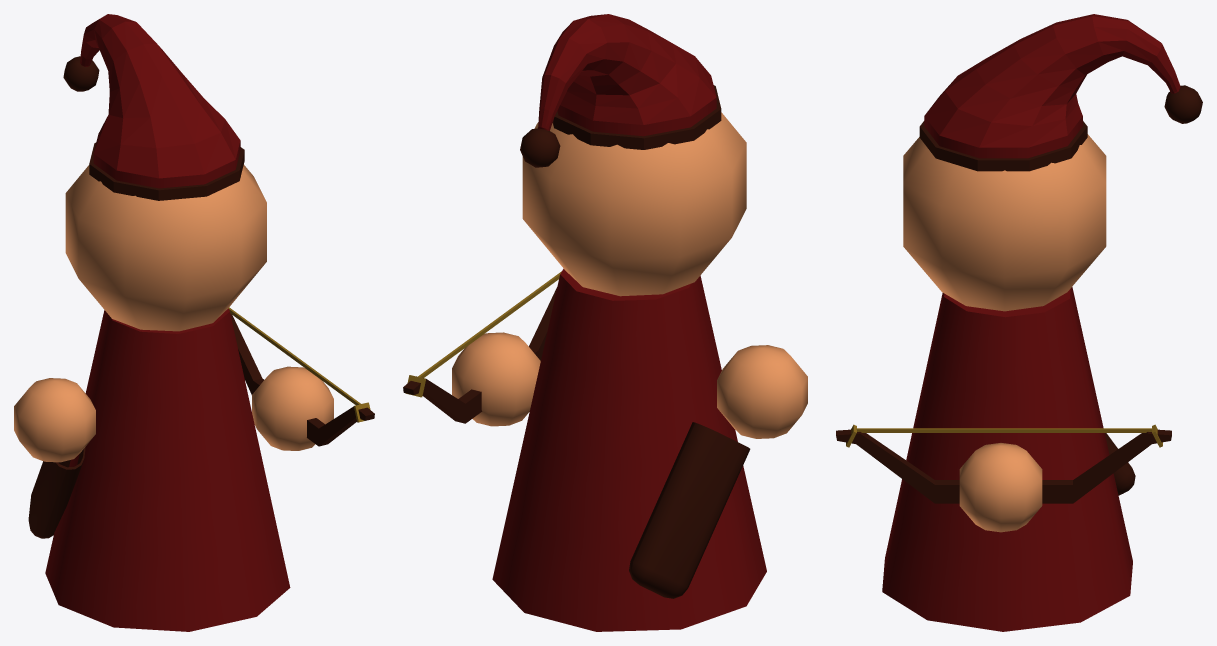
Rendered from RangerRed.FBX.
3 views of the same model, side by side, from view 1: azimuth 30°, elevation 25°; view 2: azimuth 150°, elevation 25°; view 3: azimuth 270°, elevation 25° (orthographic). The views are drawn at different scales.
Parts seen in each view (by area): view 1: Cylinder001; view 2: Cylinder001; view 3: Cylinder001.
Part boxes in pixels (box(x1,y1,x2,y2)): Cylinder001: box(14, 14, 374, 631); Cylinder001: box(403, 14, 807, 631); Cylinder001: box(836, 14, 1202, 631).
Size of the model in its own units: 52.52 by 51.17 by 86.04.
